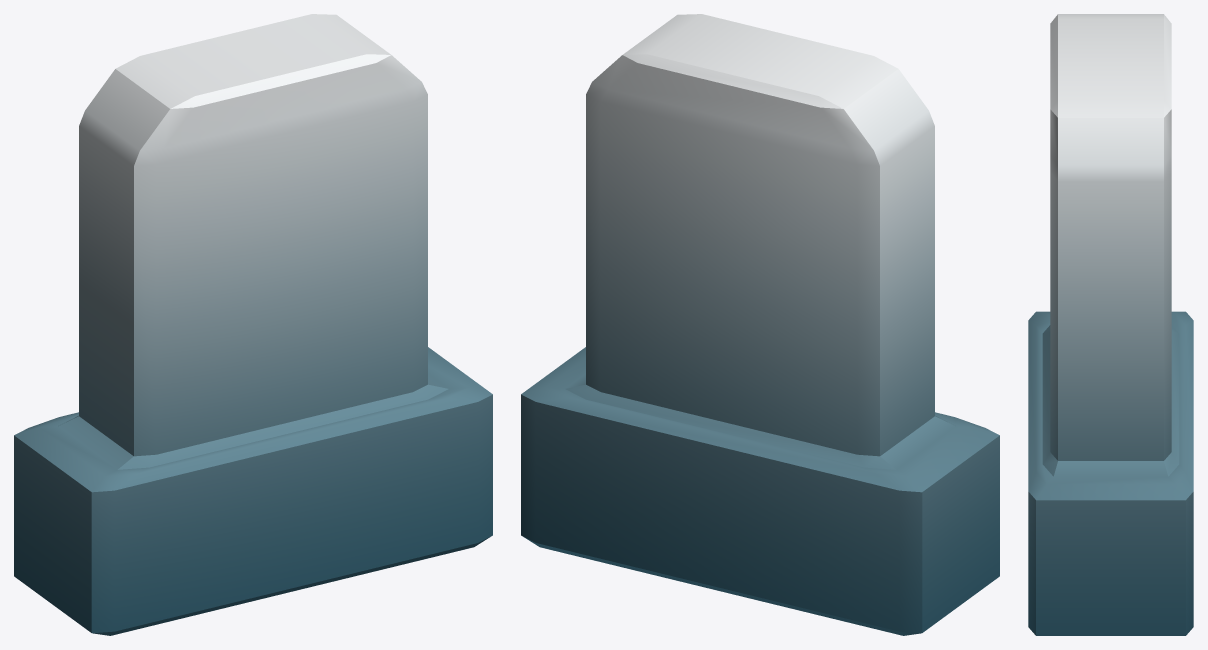
The model's file is Grave.fbx.
3 views of the same model, side by side, from view 1: azimuth 30°, elevation 25°; view 2: azimuth 150°, elevation 25°; view 3: azimuth 270°, elevation 25° (orthographic). The views are drawn at different scales.
Visible parts, largest first — view 1: GraveMesh; view 2: GraveMesh; view 3: GraveMesh.
Part boxes in pixels (box(x1,y1,x2,y2)): GraveMesh: box(14, 14, 492, 635); GraveMesh: box(521, 14, 999, 635); GraveMesh: box(1028, 14, 1193, 635).
Size of the model in its own units: 270 by 327 by 100.
